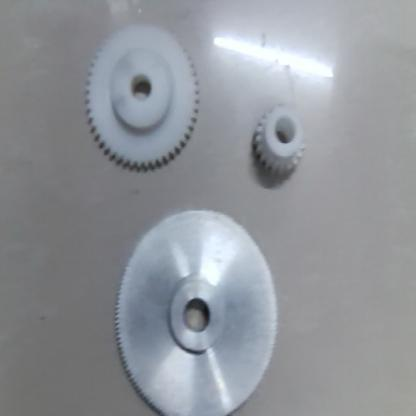FOD: (112, 198, 292, 415), (83, 28, 209, 175), (250, 104, 308, 176)
